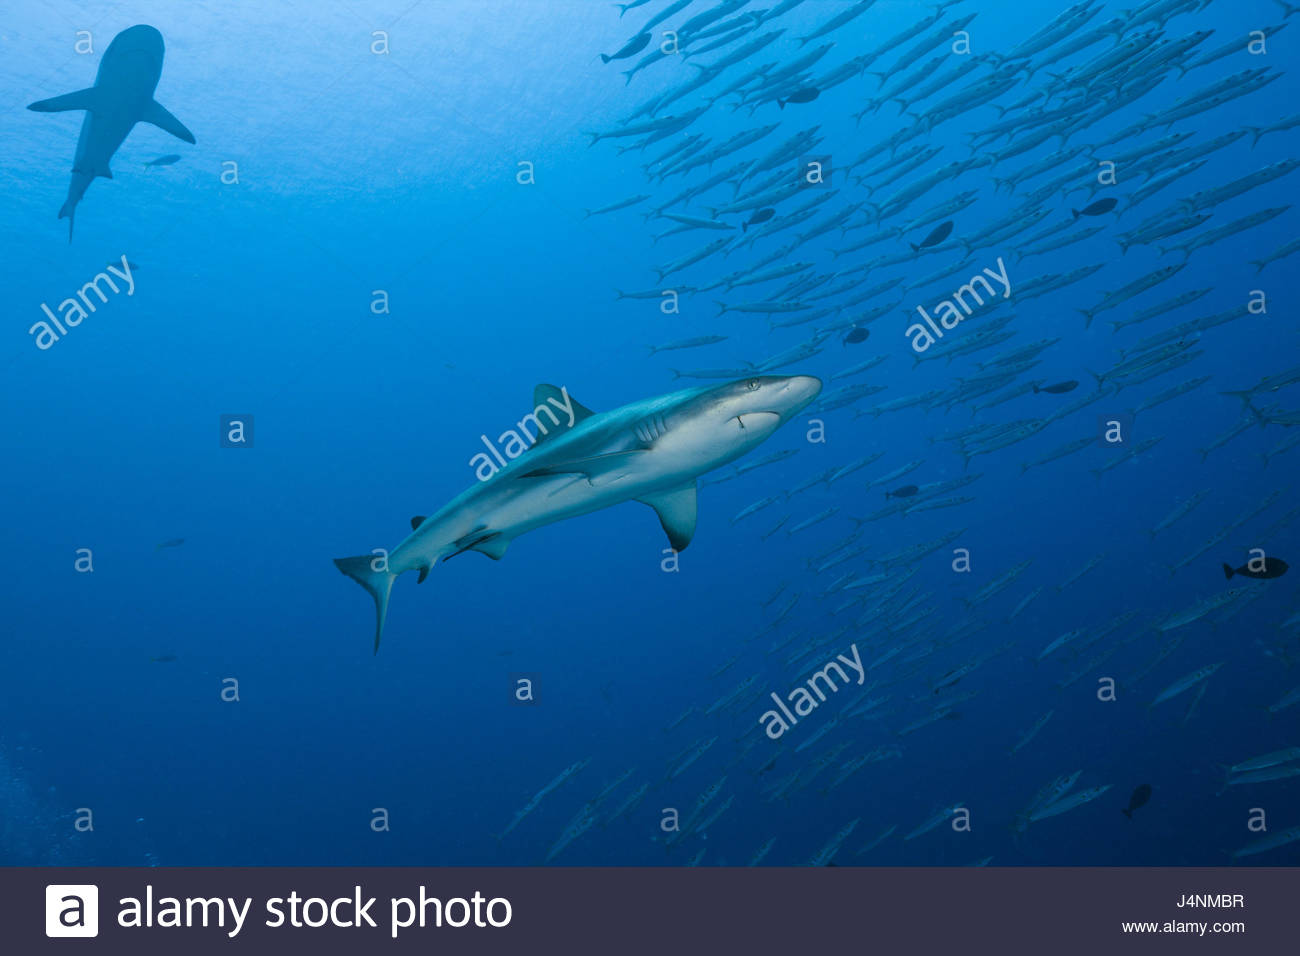Carcharhinus_amblyrhynchos: (290, 364, 841, 661), (23, 16, 225, 254)
